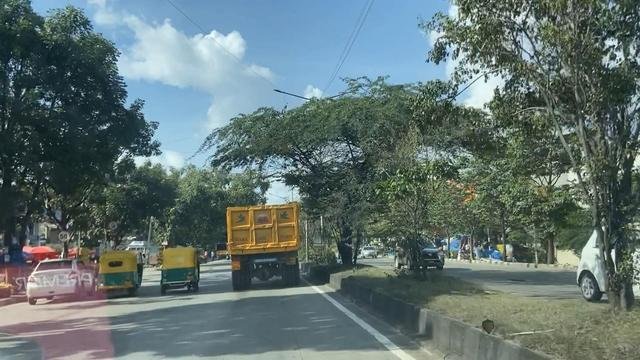HMV: (223, 197, 301, 283)
LMV: (30, 255, 96, 307), (150, 245, 200, 293), (97, 245, 139, 296)
